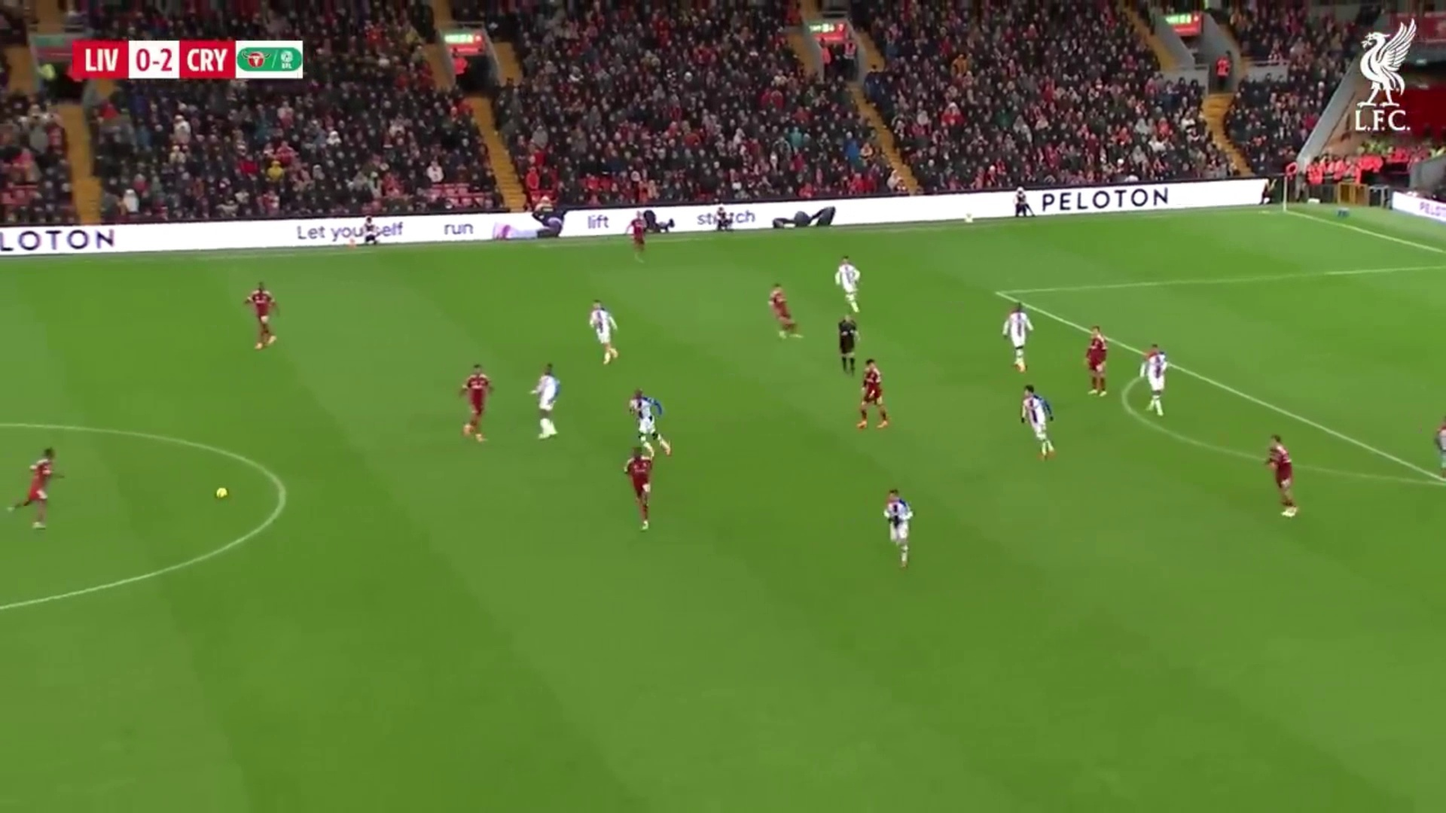player: (626, 401, 670, 532), (625, 439, 671, 532), (18, 447, 58, 530), (834, 256, 862, 367), (1265, 436, 1300, 519), (625, 449, 658, 532), (855, 359, 892, 431), (1021, 387, 1056, 463), (884, 489, 913, 571), (461, 366, 491, 443), (245, 283, 277, 352), (1006, 299, 1034, 377), (533, 363, 561, 440), (627, 390, 663, 445), (1139, 346, 1167, 415), (589, 302, 619, 366), (767, 283, 800, 340), (1004, 304, 1031, 367), (1084, 329, 1109, 396), (837, 312, 858, 371), (1435, 417, 1445, 474)
